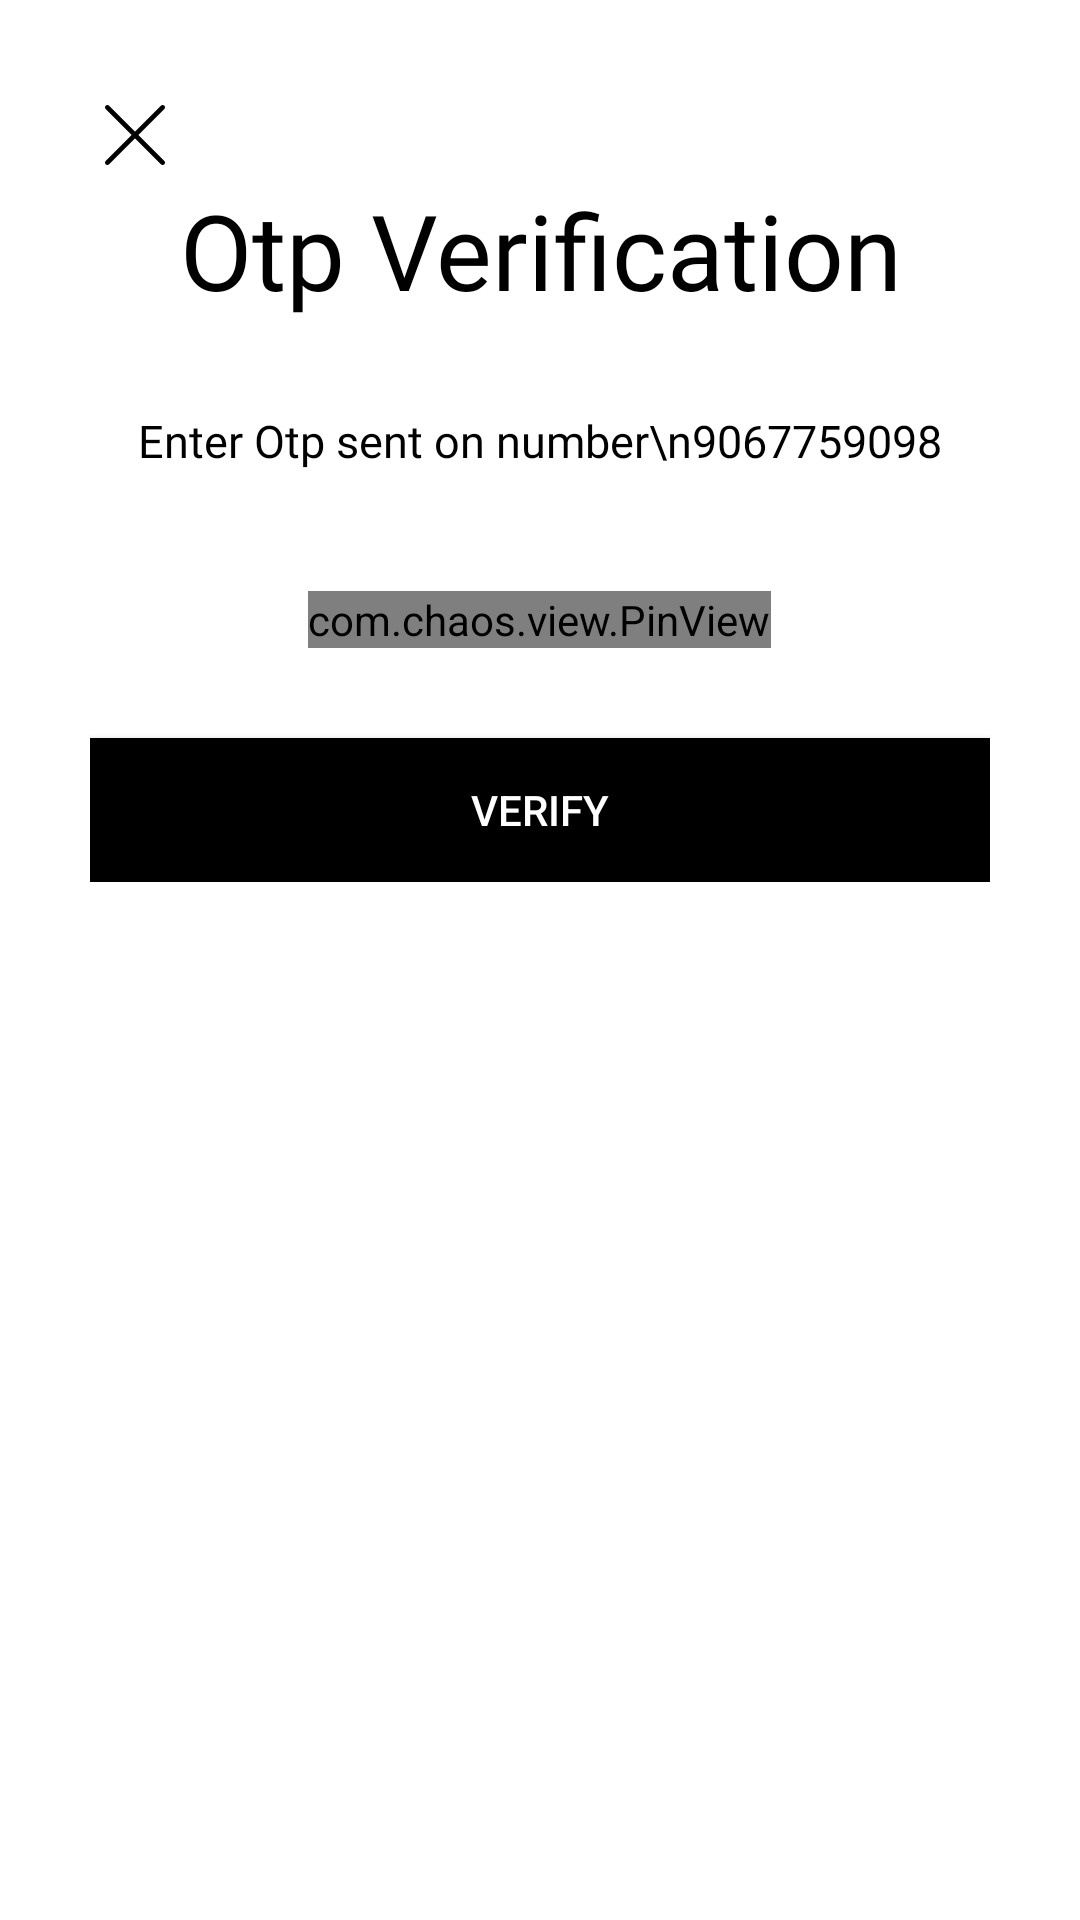

Where to tap for icons on this 1080 × 1920 app screen, as (x,y):
cross: (135,135)
